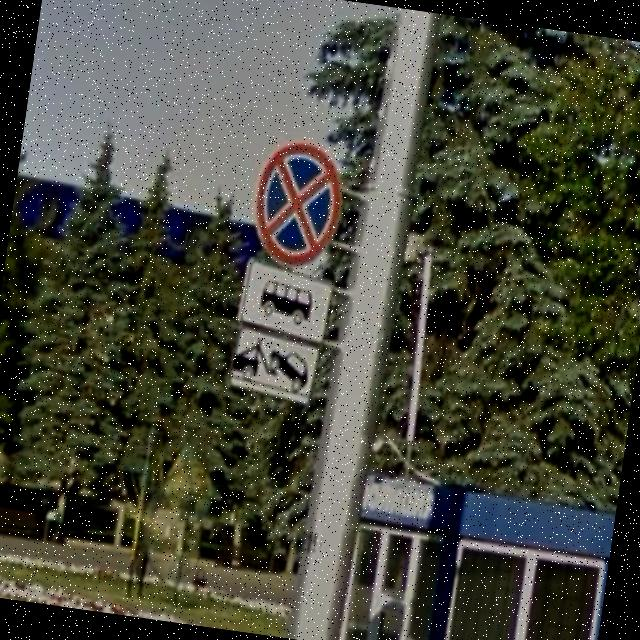Zakaz zatrzymywania sie: (246, 134, 352, 274)
